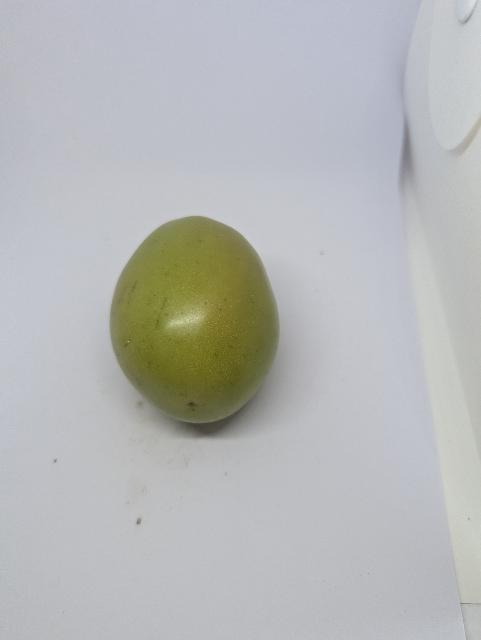green: (97, 184, 293, 456)
